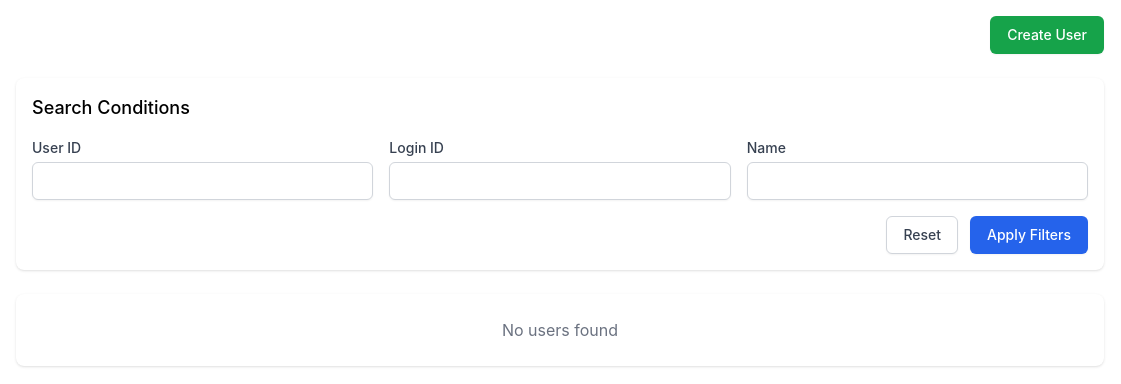
Test case: UserList Component › resets filter form correctly
# Fill in the filter form
Type "123" into the field labelled "User ID" at coordinates (203, 181), box [32,162,373,200]
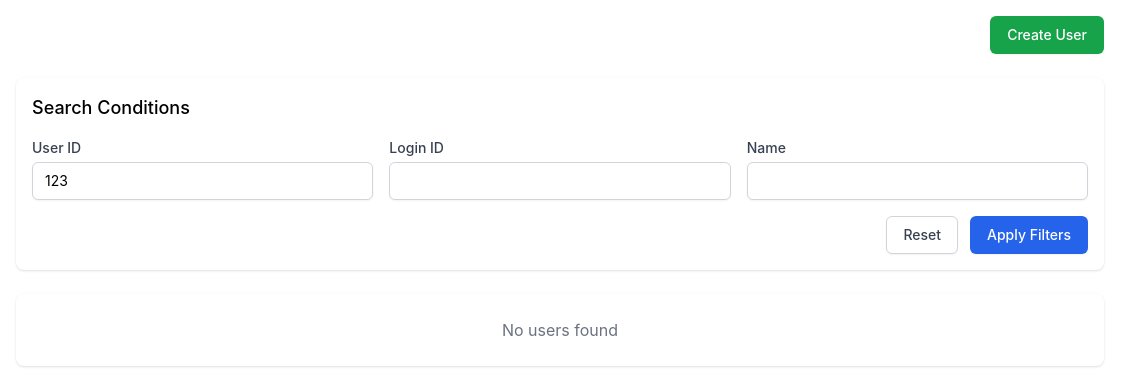
Type "testuser" into the field labelled "Login ID" at coordinates (560, 181), box [389,162,731,200]
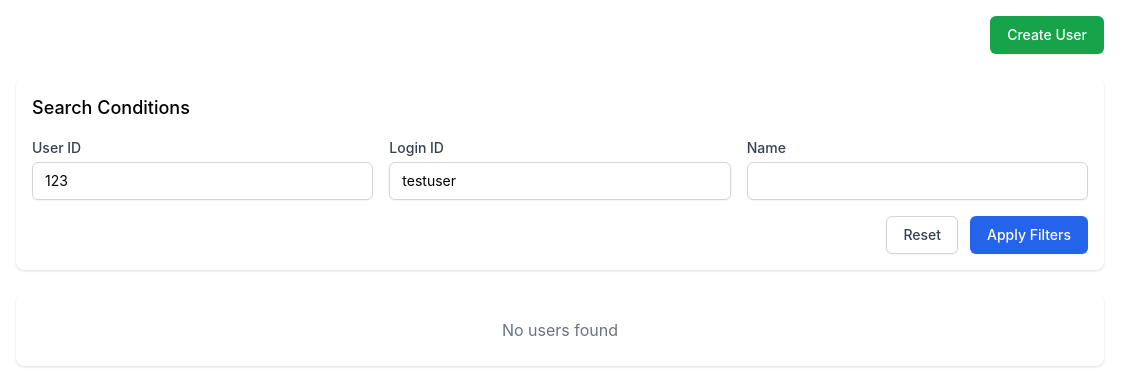
Type "Test User" into the field labelled "Name" at coordinates (917, 181), box [747,162,1088,200]
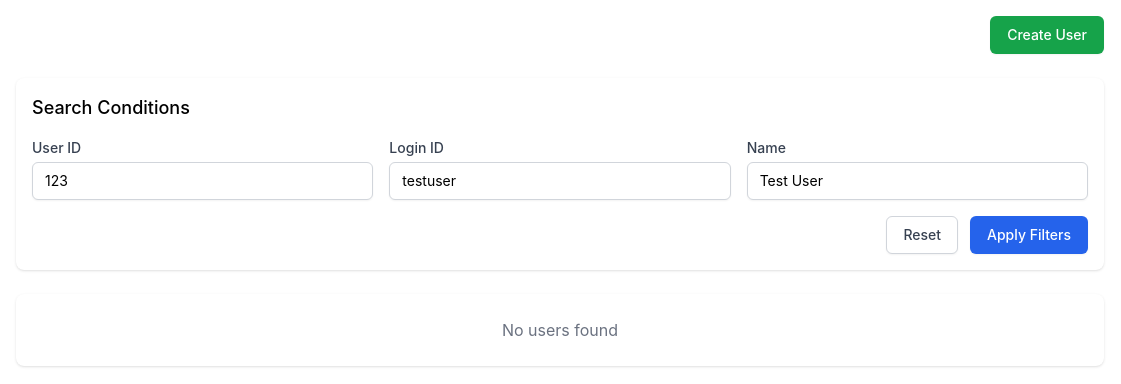
# Click the reset button
Click the button "Reset" at coordinates (922, 235), box [886,216,958,254]
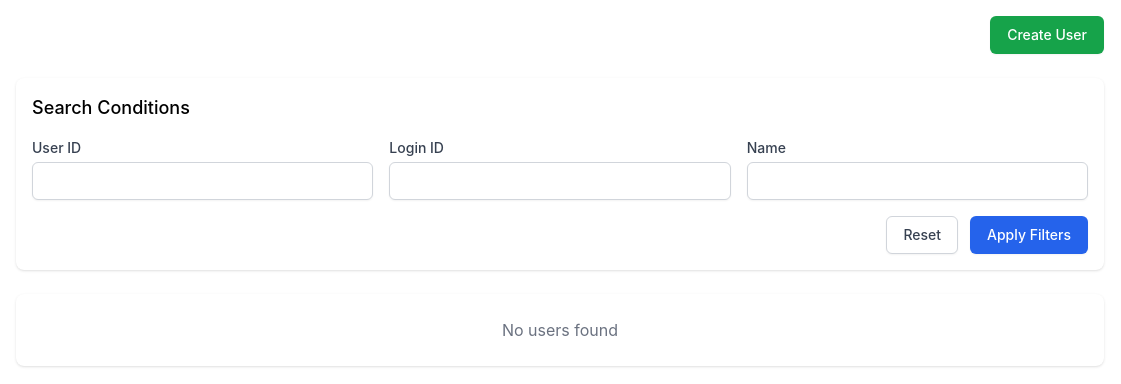
Now the field labelled "User ID" is empty, box [32,162,373,200]
Now the field labelled "Login ID" is empty, box [389,162,731,200]
Now the field labelled "Name" is empty, box [747,162,1088,200]
